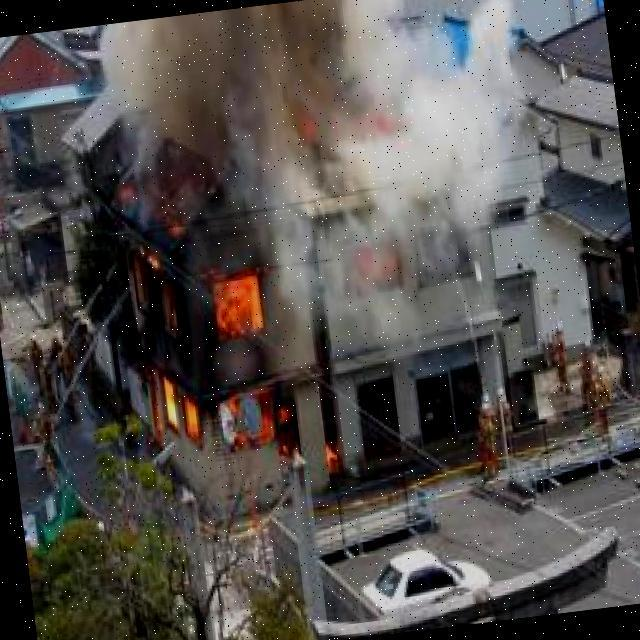Fire: (93, 220, 357, 516)
